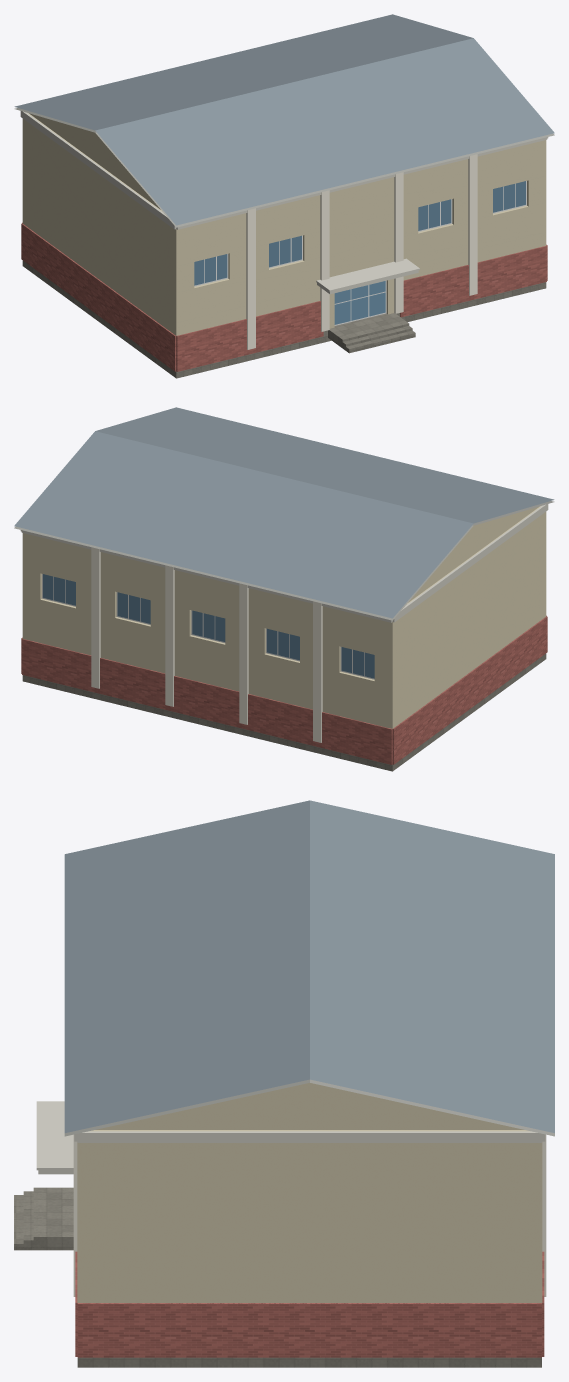
The picture shows the model from 3 angles, top to bottom: view 1: azimuth 30°, elevation 25°; view 2: azimuth 150°, elevation 25°; view 3: azimuth 270°, elevation 25°; orthographic projection. The views are drawn at different scales.
Visible parts, largest first — view 1: hall__hallroof, hall__cream, hall__rbrick, hall__spandrel, hall__cap, hall__sideglass, hall__stone, hall__glass, hall__slab, hall__stair-front, hall__threshold-front, hall__frame; view 2: hall__hallroof, hall__cream, hall__rbrick, hall__spandrel, hall__sideglass, hall__stone, hall__cap, hall__slab, hall__frame; view 3: hall__hallroof, hall__cream, hall__rbrick, hall__cap, hall__stone, hall__threshold-front, hall__slab, hall__stair-front, hall__spandrel.
Part boxes in pixels (<box>): hall__hallroof: <box>14,14,554,225</box>; hall__cream: <box>22,113,546,335</box>; hall__rbrick: <box>21,222,547,371</box>; hall__spandrel: <box>246,154,477,349</box>; hall__cap: <box>20,111,548,294</box>; hall__sideglass: <box>194,181,525,285</box>; hall__stone: <box>22,260,546,378</box>; hall__glass: <box>334,281,385,324</box>; hall__slab: <box>14,108,554,227</box>; hall__stair-front: <box>339,321,415,353</box>; hall__threshold-front: <box>328,313,405,345</box>; hall__frame: <box>194,181,526,325</box>; hall__hallroof: <box>14,407,554,618</box>; hall__cream: <box>22,506,546,728</box>; hall__rbrick: <box>21,615,547,764</box>; hall__spandrel: <box>91,547,322,742</box>; hall__sideglass: <box>43,574,374,678</box>; hall__stone: <box>22,653,546,771</box>; hall__cap: <box>20,504,548,622</box>; hall__slab: <box>14,501,554,620</box>; hall__frame: <box>42,574,374,679</box>; hall__hallroof: <box>64,800,554,1133</box>; hall__cream: <box>77,1083,542,1302</box>; hall__rbrick: <box>75,1251,544,1357</box>; hall__cap: <box>36,1101,545,1174</box>; hall__stone: <box>77,1357,541,1367</box>; hall__threshold-front: <box>43,1187,73,1250</box>; hall__slab: <box>64,1079,554,1136</box>; hall__stair-front: <box>14,1187,43,1250</box>; hall__spandrel: <box>73,1134,546,1296</box>.
Bounding box in the file's own units: 25.6 × 12.46 × 20.97.
Materials: 10 (3 with a texture image).
